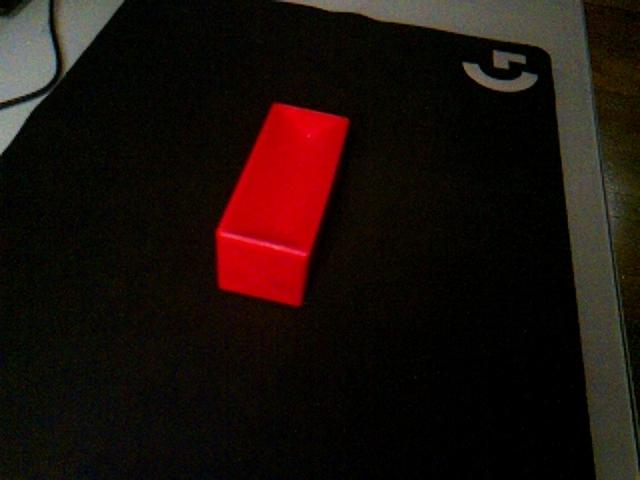red: (214, 100, 351, 308)
